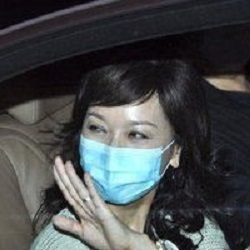mask: (73, 131, 177, 206)
